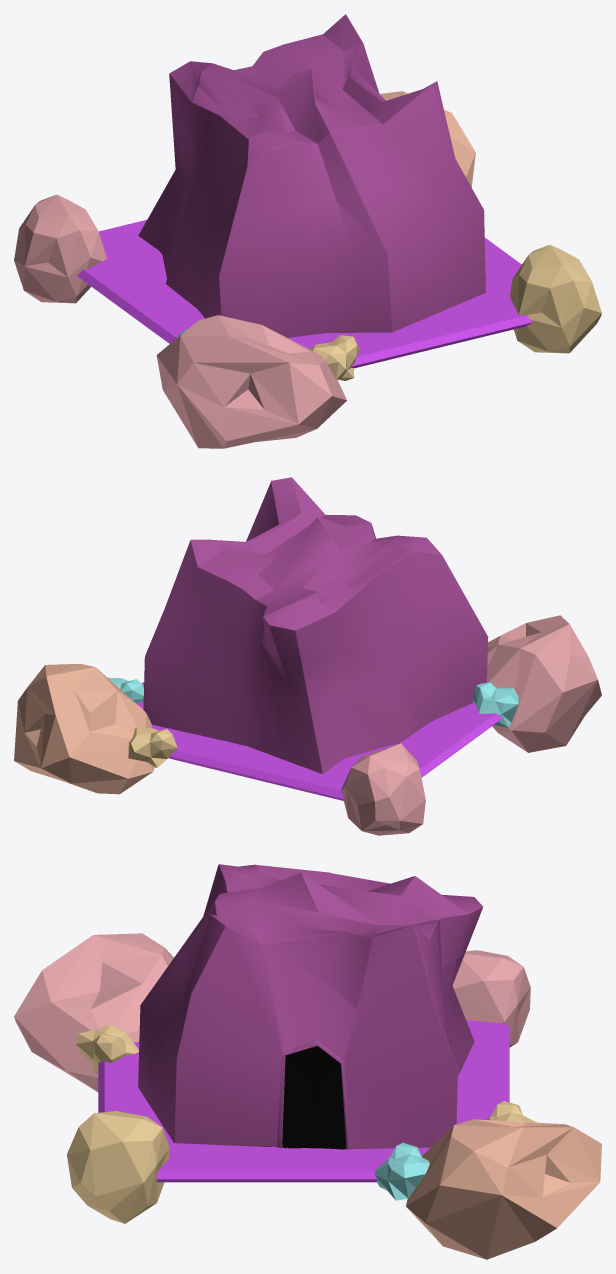
File: ProdutoraMermão1.fbx
3 views of the same model, one above another, from view 1: azimuth 30°, elevation 25°; view 2: azimuth 150°, elevation 25°; view 3: azimuth 270°, elevation 25° (orthographic). The views are drawn at different scales.
Visible parts, largest first — view 1: Cube, Rocha3.003, PlataformaMermão, Rocha1.002, Rocha1.001, Rocha2.003, Rocha3.001; view 2: Cube, Rocha3.001, Rocha3.003, PlataformaMermão, Rocha1.001, Rocha2.002, Rocha2.005, Rocha2.001; view 3: Cube, Rocha3.001, PlataformaMermão, Rocha3.003, Rocha1.002, Rocha1.001, Rocha2.001, Rocha2.003, Rocha2.002.
Part boxes in pixels (x1=…): Cube: x1=138, y1=14, x2=485, y2=337; Rocha3.003: x1=156, y1=315, x2=346, y2=448; PlataformaMermão: x1=77, y1=220, x2=532, y2=368; Rocha1.002: x1=510, y1=244, x2=601, y2=353; Rocha1.001: x1=14, y1=194, x2=106, y2=303; Rocha2.003: x1=310, y1=335, x2=359, y2=380; Rocha3.001: x1=380, y1=91, x2=475, y2=186; Cube: x1=143, y1=477, x2=488, y2=773; Rocha3.001: x1=14, y1=663, x2=154, y2=794; Rocha3.003: x1=487, y1=615, x2=601, y2=752; PlataformaMermão: x1=136, y1=682, x2=504, y2=800; Rocha1.001: x1=341, y1=743, x2=425, y2=835; Rocha2.002: x1=128, y1=727, x2=177, y2=767; Rocha2.005: x1=473, y1=682, x2=518, y2=727; Rocha2.001: x1=108, y1=677, x2=143, y2=702; Cube: x1=138, y1=864, x2=482, y2=1149; Rocha3.001: x1=406, y1=1119, x2=601, y2=1259; PlataformaMermão: x1=98, y1=1020, x2=509, y2=1182; Rocha3.003: x1=14, y1=933, x2=173, y2=1092; Rocha1.002: x1=67, y1=1111, x2=169, y2=1223; Rocha1.001: x1=452, y1=950, x2=530, y2=1047; Rocha2.001: x1=374, y1=1142, x2=429, y2=1200; Rocha2.003: x1=75, y1=1024, x2=138, y2=1073; Rocha2.002: x1=487, y1=1101, x2=536, y2=1122.
Size of the model in its own units: 562 by 320 by 595.
